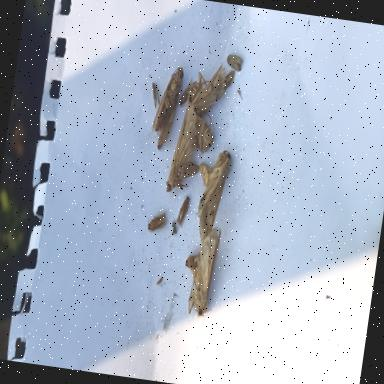abw: (163, 100, 209, 200), (190, 146, 234, 249), (183, 223, 222, 326), (147, 62, 187, 144), (186, 60, 230, 126), (175, 108, 217, 162)
pbw: (154, 106, 176, 152), (176, 74, 200, 113), (144, 206, 168, 240), (173, 192, 191, 228), (183, 249, 203, 273), (147, 82, 162, 112), (224, 52, 243, 74)
